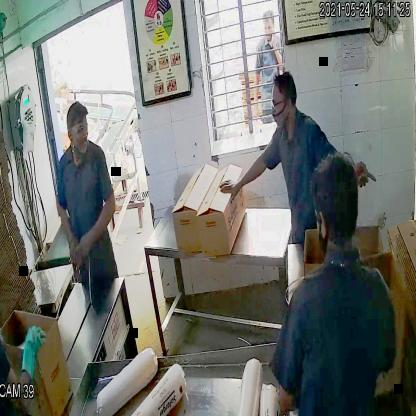goggles: (267, 94, 296, 113), (65, 120, 92, 139)
